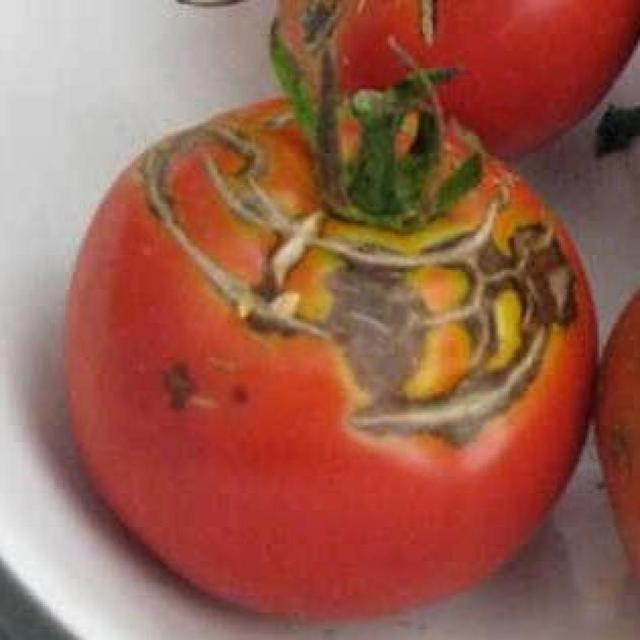Cracking Fruit: (45, 49, 403, 300)
